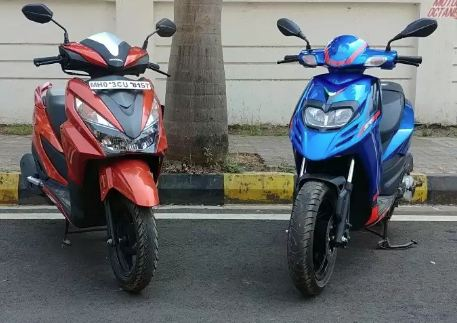bike: (275, 17, 438, 295), (21, 4, 174, 294)
